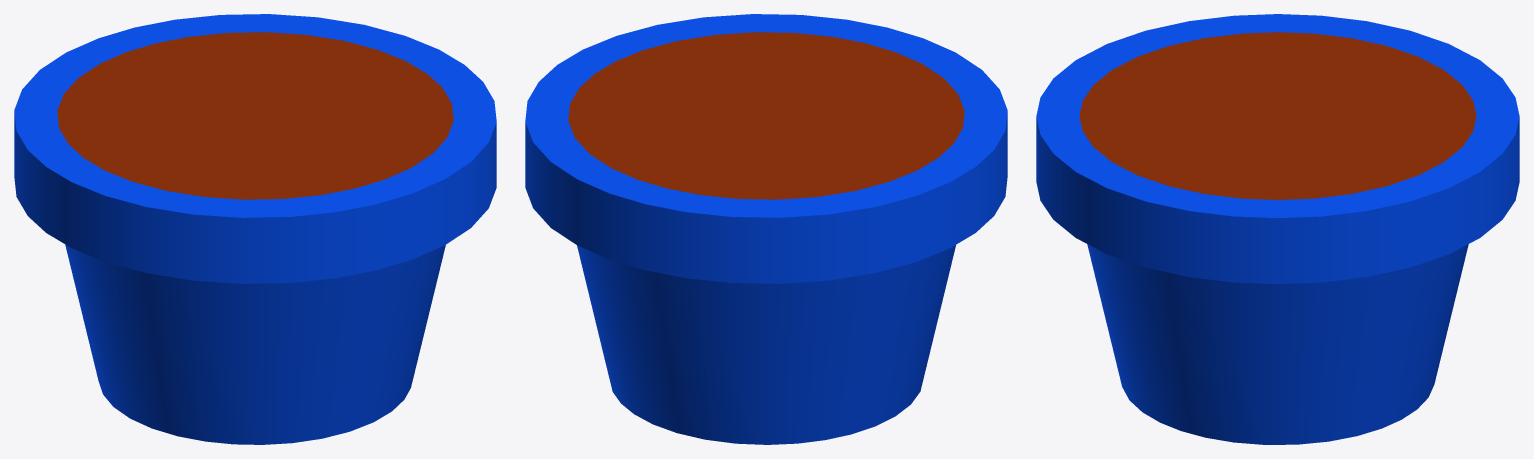
Rendered from pot7.fbx.
3 views of the same model, side by side, from view 1: azimuth 30°, elevation 25°; view 2: azimuth 150°, elevation 25°; view 3: azimuth 270°, elevation 25° (orthographic).
Parts seen in each view (by area): view 1: Pot_2, Dirt; view 2: Pot_2, Dirt; view 3: Pot_2, Dirt.
Boxes of the visible parts, x1,y1,x2,y2 form: Pot_2: (14,14,496,444); Dirt: (57,32,453,199); Pot_2: (525,14,1007,444); Dirt: (568,32,964,199); Pot_2: (1036,14,1519,444); Dirt: (1079,32,1476,199).
Bounding box in the file's own units: 3.28 × 1.97 × 3.28.
